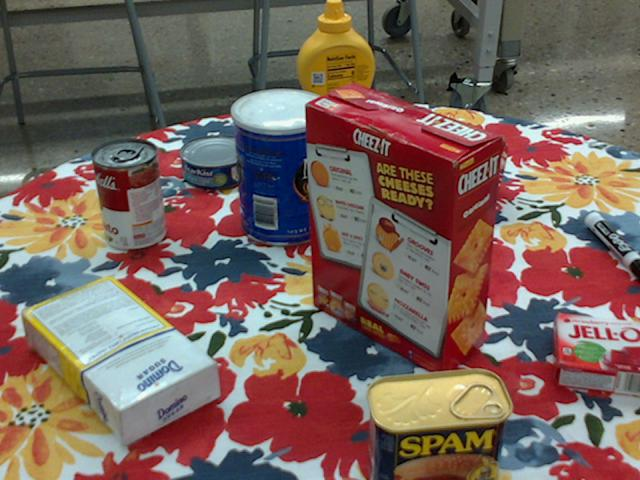cracker_box: (304, 85, 500, 380)
gelatin_box: (552, 313, 639, 394)
large_marker: (584, 210, 639, 280)
master_chef_can: (231, 88, 330, 246)
mug: (417, 121, 505, 208)
mustard_bottle: (296, 0, 374, 157)
potted_meat_can: (365, 369, 512, 479)
sugar_box: (22, 279, 219, 443)
tomato_soup_can: (91, 138, 165, 251)
tuna_fish_can: (181, 134, 252, 188)
